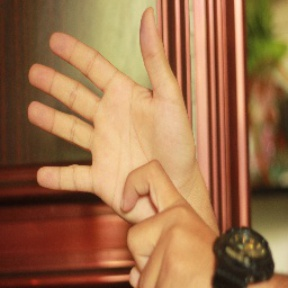R: (24, 7, 217, 286)
